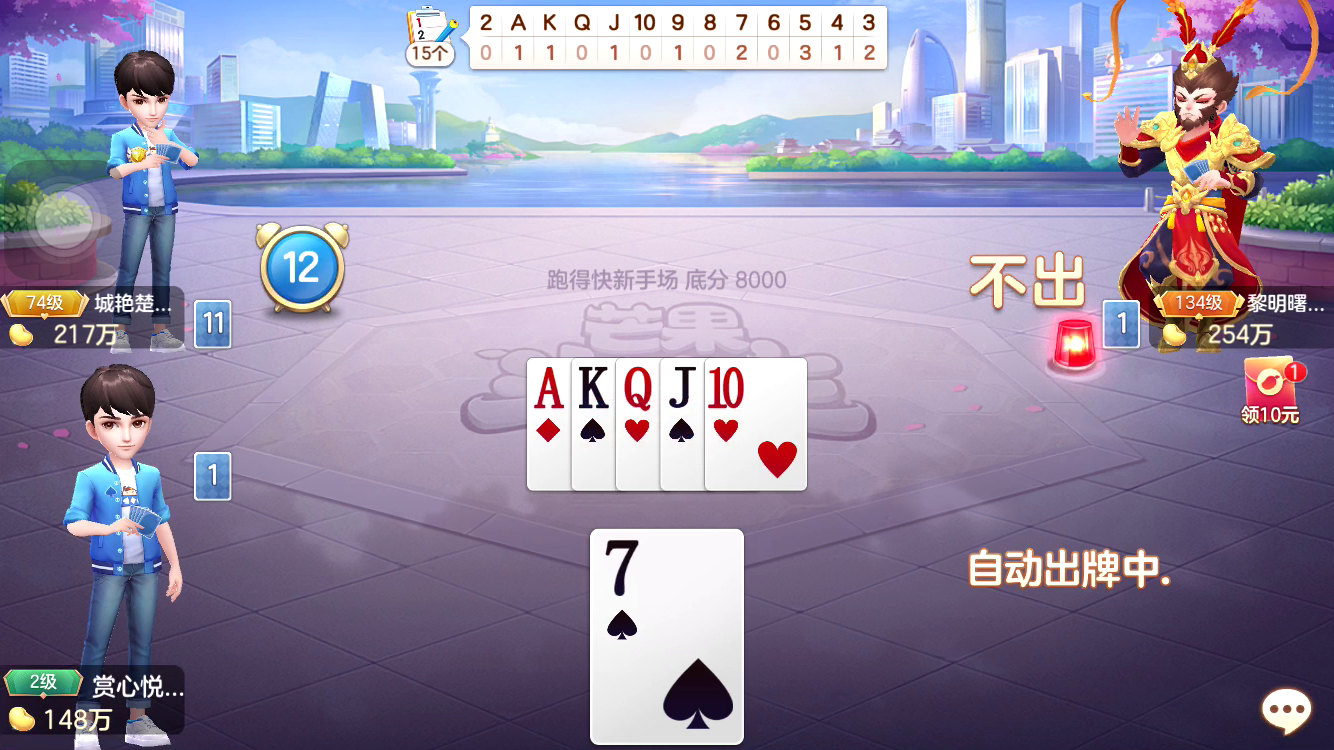A: (528, 364, 568, 415)
J: (662, 363, 700, 416)
K: (573, 362, 613, 416)
Q: (618, 364, 657, 414)
seven: (594, 534, 651, 605)
ten: (705, 364, 748, 415)
